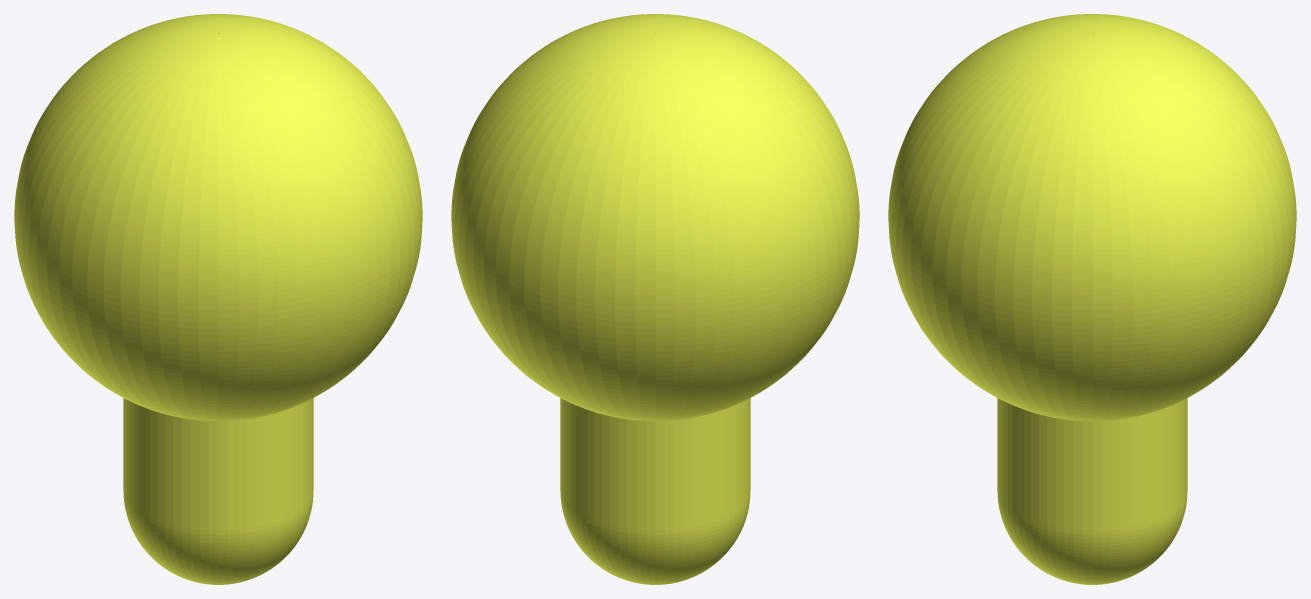
Rendered from Concept.gltf.
3 views of the same model, side by side, from view 1: azimuth 30°, elevation 25°; view 2: azimuth 150°, elevation 25°; view 3: azimuth 270°, elevation 25° (orthographic).
Size of the model in its own units: 0.0208 by 0.0305 by 0.0208.
